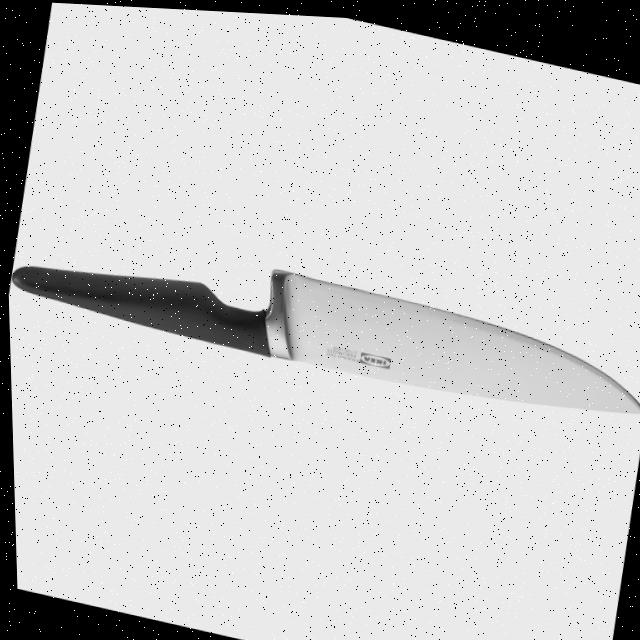knife: (5, 209, 640, 451)
